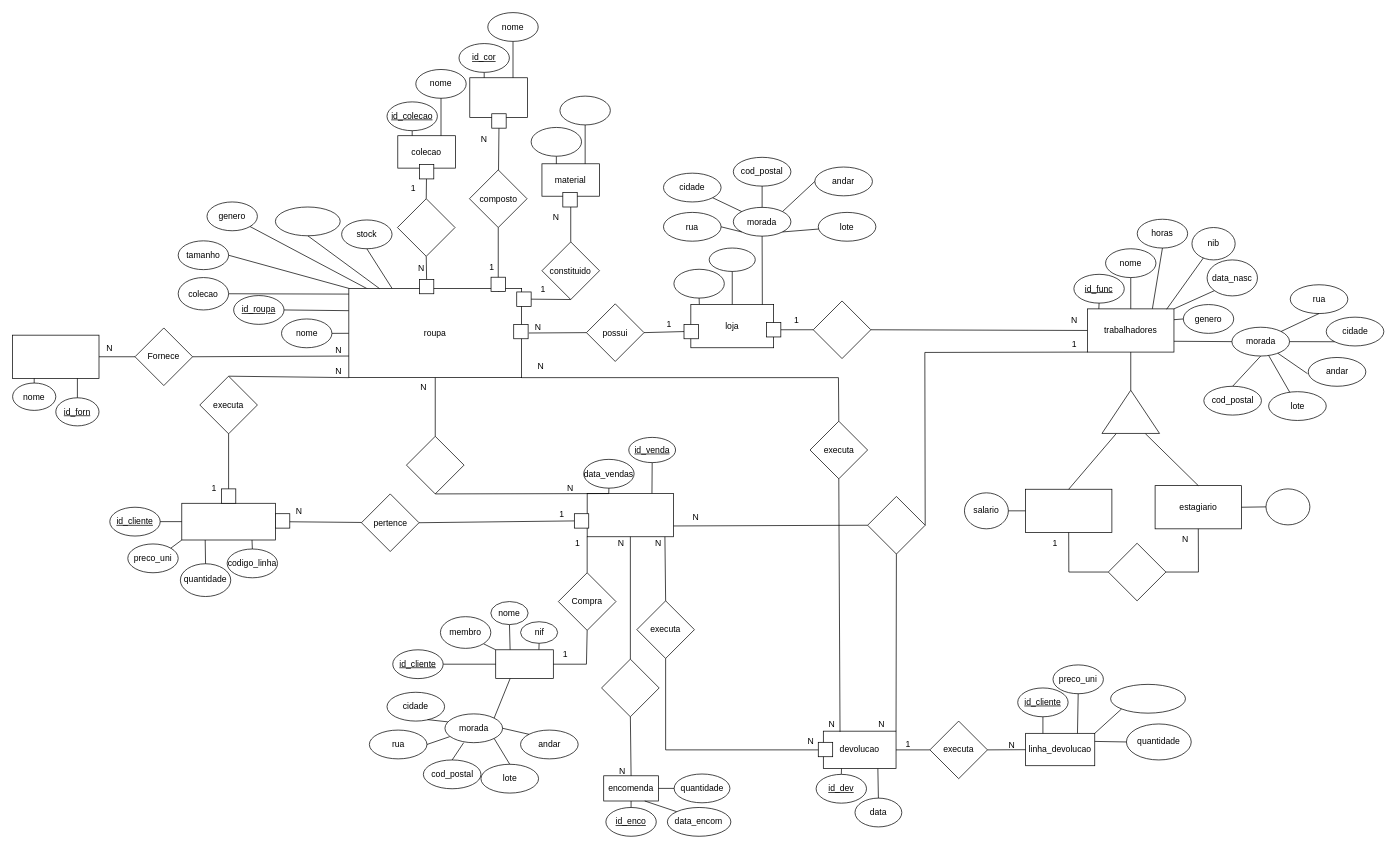
Some shapes in this 1397 by 849 pixel diagram are drawn without their labels. The centre of each missing label's shape, as x and y in pixels:
"cliente" belongs at pixel 524 664.
"codigo_devolucao" belongs at pixel 1147 698.
"Contem" belongs at pixel 842 329.
"cor" belongs at pixel 498 97.
"data_chegada" belongs at pixel 307 221.
"faz" belongs at pixel 630 687.
"fazem" belongs at pixel 896 525.
"fornecedor" belongs at pixel 55 356.
"funcionario" belongs at pixel 1068 510.
"id_loja" belongs at pixel 698 283.
"id_material" belongs at pixel 556 141.
"linha_venda" belongs at pixel 228 521.
"loc" belongs at pixel 731 259.
"premios" belongs at pixel 1287 506.
"resolve" belongs at pixel 435 465.
"supervisiona" belongs at pixel 1137 572.
"tem" belongs at pixel 426 227.
"tipo" belongs at pixel 584 110.
"venda" belongs at pixel 630 515.
